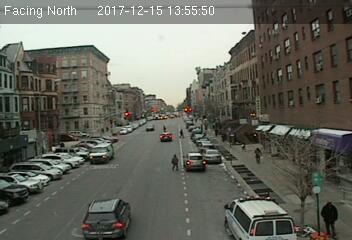car: (84, 197, 131, 238), (183, 153, 205, 172), (204, 149, 221, 164), (160, 132, 173, 142)
pedestrian: (320, 199, 340, 237), (170, 152, 179, 170), (254, 147, 262, 162), (178, 128, 184, 138)
police: (223, 196, 301, 240)
truck: (89, 142, 113, 164)
